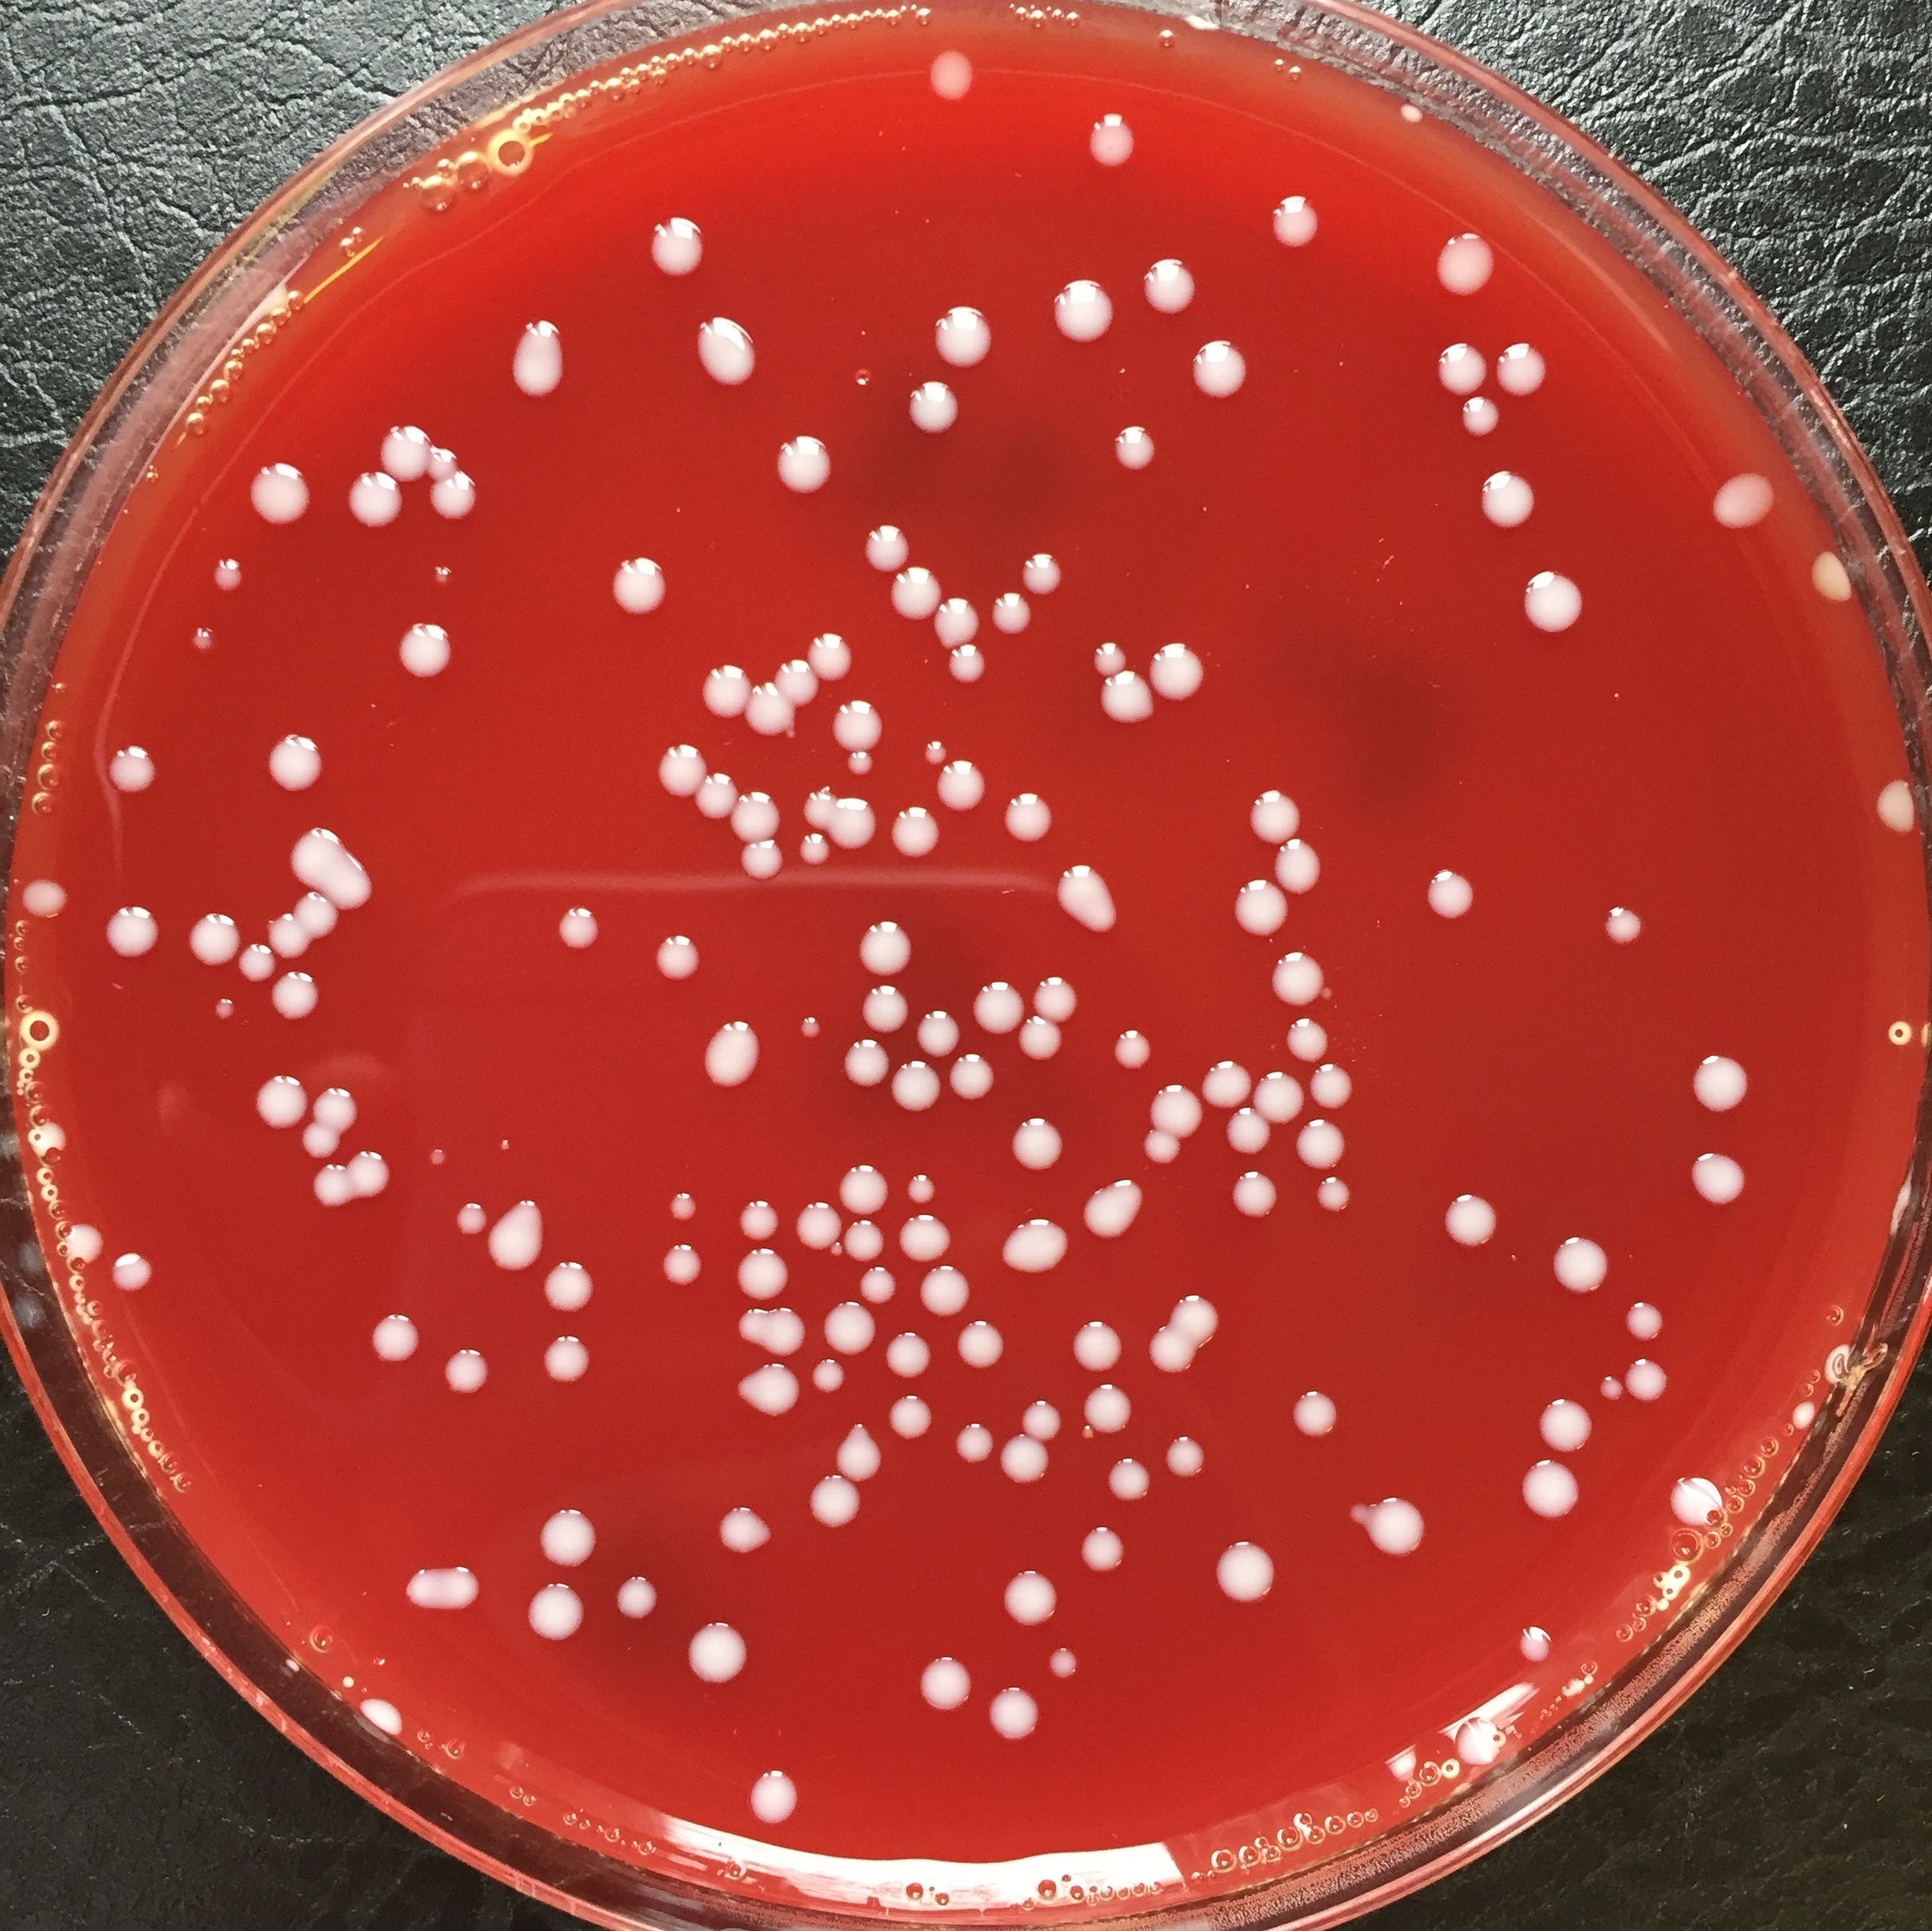sp22: (1329, 1480, 1428, 1574), (494, 311, 589, 401), (384, 607, 479, 697), (1247, 161, 1329, 258), (1679, 1038, 1764, 1128), (679, 1008, 761, 1102), (1424, 221, 1513, 306), (255, 723, 352, 798), (686, 306, 764, 396), (764, 424, 846, 508), (1047, 262, 1118, 357), (393, 1556, 488, 1627), (1683, 1144, 1764, 1225), (915, 292, 998, 371), (1532, 1220, 1610, 1305), (594, 545, 678, 621), (906, 1652, 991, 1726), (1707, 458, 1783, 538), (1076, 97, 1143, 186), (849, 898, 927, 974), (1468, 465, 1543, 543), (1047, 858, 1120, 937), (901, 366, 975, 442), (679, 1609, 755, 1683), (639, 202, 709, 281), (1520, 561, 1589, 642), (248, 453, 313, 538), (598, 1556, 669, 1634), (1076, 1176, 1150, 1248), (524, 1500, 600, 1570), (991, 1560, 1062, 1636), (1136, 235, 1198, 322), (1417, 329, 1491, 400), (1100, 417, 1177, 486), (1442, 1188, 1509, 1266), (998, 1211, 1070, 1282), (1424, 852, 1484, 937), (1201, 1544, 1279, 1609), (1591, 884, 1654, 964), (1223, 877, 1293, 946), (432, 1330, 495, 1406), (734, 1751, 798, 1827), (1187, 332, 1256, 401), (543, 1248, 610, 1317), (1283, 1374, 1348, 1445), (1001, 1112, 1067, 1183), (729, 1358, 801, 1422), (494, 1195, 545, 1284), (985, 1685, 1051, 1754), (370, 417, 430, 492), (520, 1574, 580, 1648), (550, 884, 614, 953), (709, 1498, 775, 1563), (1805, 536, 1859, 614), (1493, 336, 1557, 401), (1238, 783, 1306, 845), (12, 863, 76, 927), (359, 1307, 423, 1370), (805, 1480, 870, 1542), (885, 1059, 941, 1130), (920, 41, 982, 104), (1267, 944, 1329, 1008), (97, 898, 163, 958), (824, 1416, 885, 1482), (1097, 1008, 1152, 1079), (103, 1243, 172, 1298), (543, 1330, 598, 1399), (322, 859, 384, 920), (725, 1245, 787, 1305), (1537, 1386, 1594, 1452), (1230, 1169, 1284, 1236), (1382, 90, 1445, 147), (1150, 640, 1207, 704), (837, 1155, 893, 1218), (734, 1307, 807, 1356), (653, 923, 711, 983), (966, 976, 1026, 1034), (1293, 1118, 1353, 1176), (1106, 1439, 1155, 1510), (1668, 1455, 1714, 1531), (423, 472, 487, 527), (244, 1072, 308, 1126), (173, 608, 232, 667), (1168, 1282, 1226, 1340), (821, 1300, 879, 1358), (1520, 1464, 1580, 1521), (649, 739, 706, 799), (1143, 1321, 1200, 1381), (855, 976, 909, 1038), (101, 737, 166, 789), (649, 1179, 706, 1238), (1865, 778, 1920, 838), (890, 805, 938, 874), (304, 1155, 354, 1220), (1010, 1017, 1076, 1066), (731, 785, 784, 845), (918, 1263, 971, 1323), (1449, 1705, 1500, 1767), (202, 557, 271, 603), (1513, 1611, 1562, 1675), (1081, 1374, 1131, 1438), (345, 467, 398, 525), (184, 904, 237, 962), (1628, 1355, 1679, 1415), (1141, 1084, 1201, 1135), (1272, 836, 1323, 897), (262, 980, 318, 1033), (934, 757, 991, 810), (1005, 789, 1054, 849), (1077, 1526, 1131, 1581), (830, 697, 885, 750), (890, 564, 943, 619), (996, 1438, 1049, 1492), (1102, 672, 1154, 729), (955, 1316, 1007, 1372), (895, 1213, 954, 1263), (1249, 1070, 1304, 1121), (879, 1332, 934, 1383), (51, 1218, 108, 1268), (1621, 1294, 1677, 1344), (1157, 1429, 1207, 1485), (655, 1241, 704, 1298), (317, 1068, 363, 1128), (283, 828, 336, 879), (743, 686, 796, 737), (886, 1392, 934, 1448), (794, 1192, 840, 1250), (832, 794, 876, 854), (1198, 1056, 1249, 1107), (262, 907, 304, 969), (862, 520, 911, 573), (287, 889, 341, 937), (414, 557, 471, 603), (840, 1034, 885, 1093), (810, 628, 853, 688), (1281, 1013, 1332, 1063), (915, 1004, 962, 1057), (947, 1057, 1001, 1103), (1069, 1319, 1115, 1374), (1309, 1061, 1359, 1111), (929, 596, 978, 645), (479, 1119, 540, 1160), (695, 766, 736, 826), (354, 1137, 393, 1199), (359, 1685, 407, 1735), (1031, 967, 1077, 1019), (839, 1218, 890, 1264), (1780, 1395, 1824, 1448), (283, 1119, 349, 1155), (699, 665, 747, 713), (734, 1194, 782, 1241), (1449, 396, 1499, 442), (987, 589, 1031, 640), (1019, 548, 1063, 598), (1230, 1107, 1272, 1158), (771, 656, 819, 700), (1304, 1176, 1353, 1218), (1040, 1646, 1092, 1687), (25, 1112, 73, 1155), (1136, 1130, 1184, 1172), (738, 842, 786, 884), (936, 649, 987, 688), (954, 1418, 991, 1471), (856, 1263, 901, 1307), (805, 1356, 847, 1402), (1021, 1395, 1063, 1439), (902, 1165, 945, 1210), (239, 934, 276, 983), (409, 1142, 458, 1179), (800, 780, 832, 826), (449, 1204, 488, 1241), (794, 829, 832, 868), (789, 1006, 826, 1043), (1088, 638, 1127, 674), (203, 988, 239, 1026), (1596, 1365, 1624, 1404), (916, 737, 948, 769), (428, 442, 458, 476), (840, 752, 874, 778), (830, 1241, 846, 1263), (1074, 1423, 1092, 1439)
